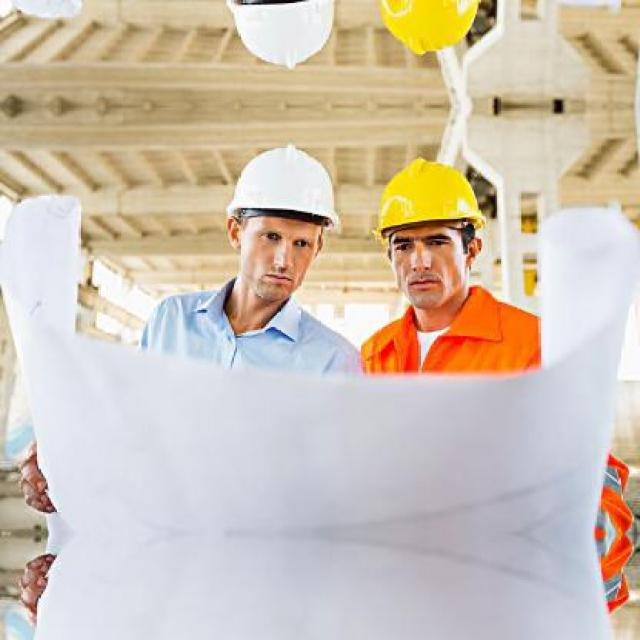Reflective-Jacket: (357, 285, 552, 381)
Safety-Helmet: (364, 152, 494, 246), (219, 140, 343, 236)
